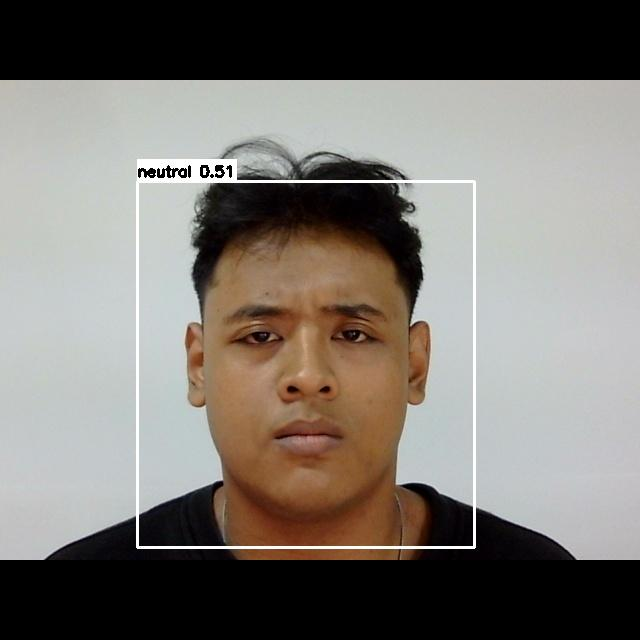Angry: (202, 286, 414, 478)
